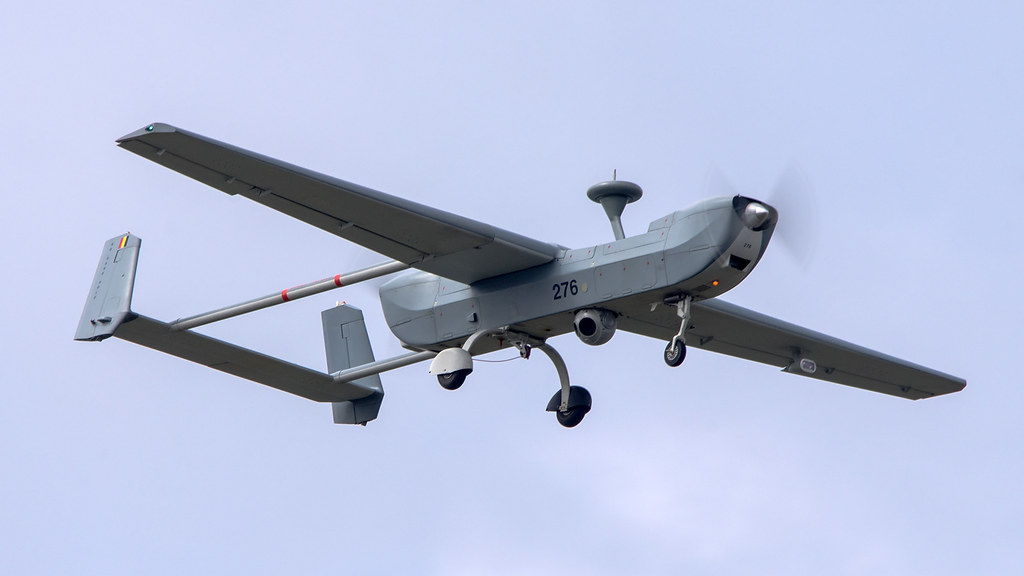military drone: (72, 122, 966, 425)
